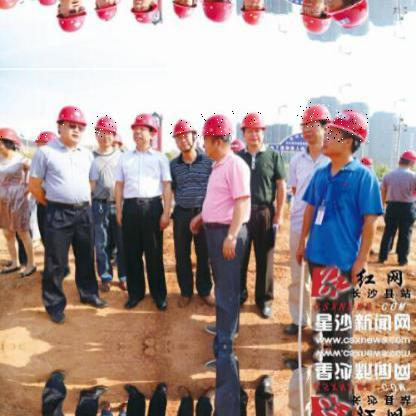safetyhelmet: (325, 110, 370, 144), (201, 112, 236, 140), (297, 102, 333, 128), (53, 104, 86, 127), (129, 112, 160, 136), (170, 118, 200, 140), (91, 116, 117, 140), (241, 112, 266, 132), (0, 128, 21, 144), (35, 132, 59, 146), (398, 150, 415, 164), (359, 154, 372, 166), (111, 134, 126, 144)
